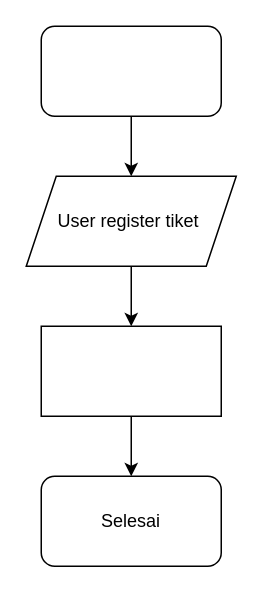
Some shapes in this 263 by 593 pixel diagram are drawn without their labels. Here are the shapes that lost their labels. From the top down, the box of each, then its label:
(40, 25, 221, 116): Mulai
(40, 325, 221, 416): User mendapatkan QR tiket
